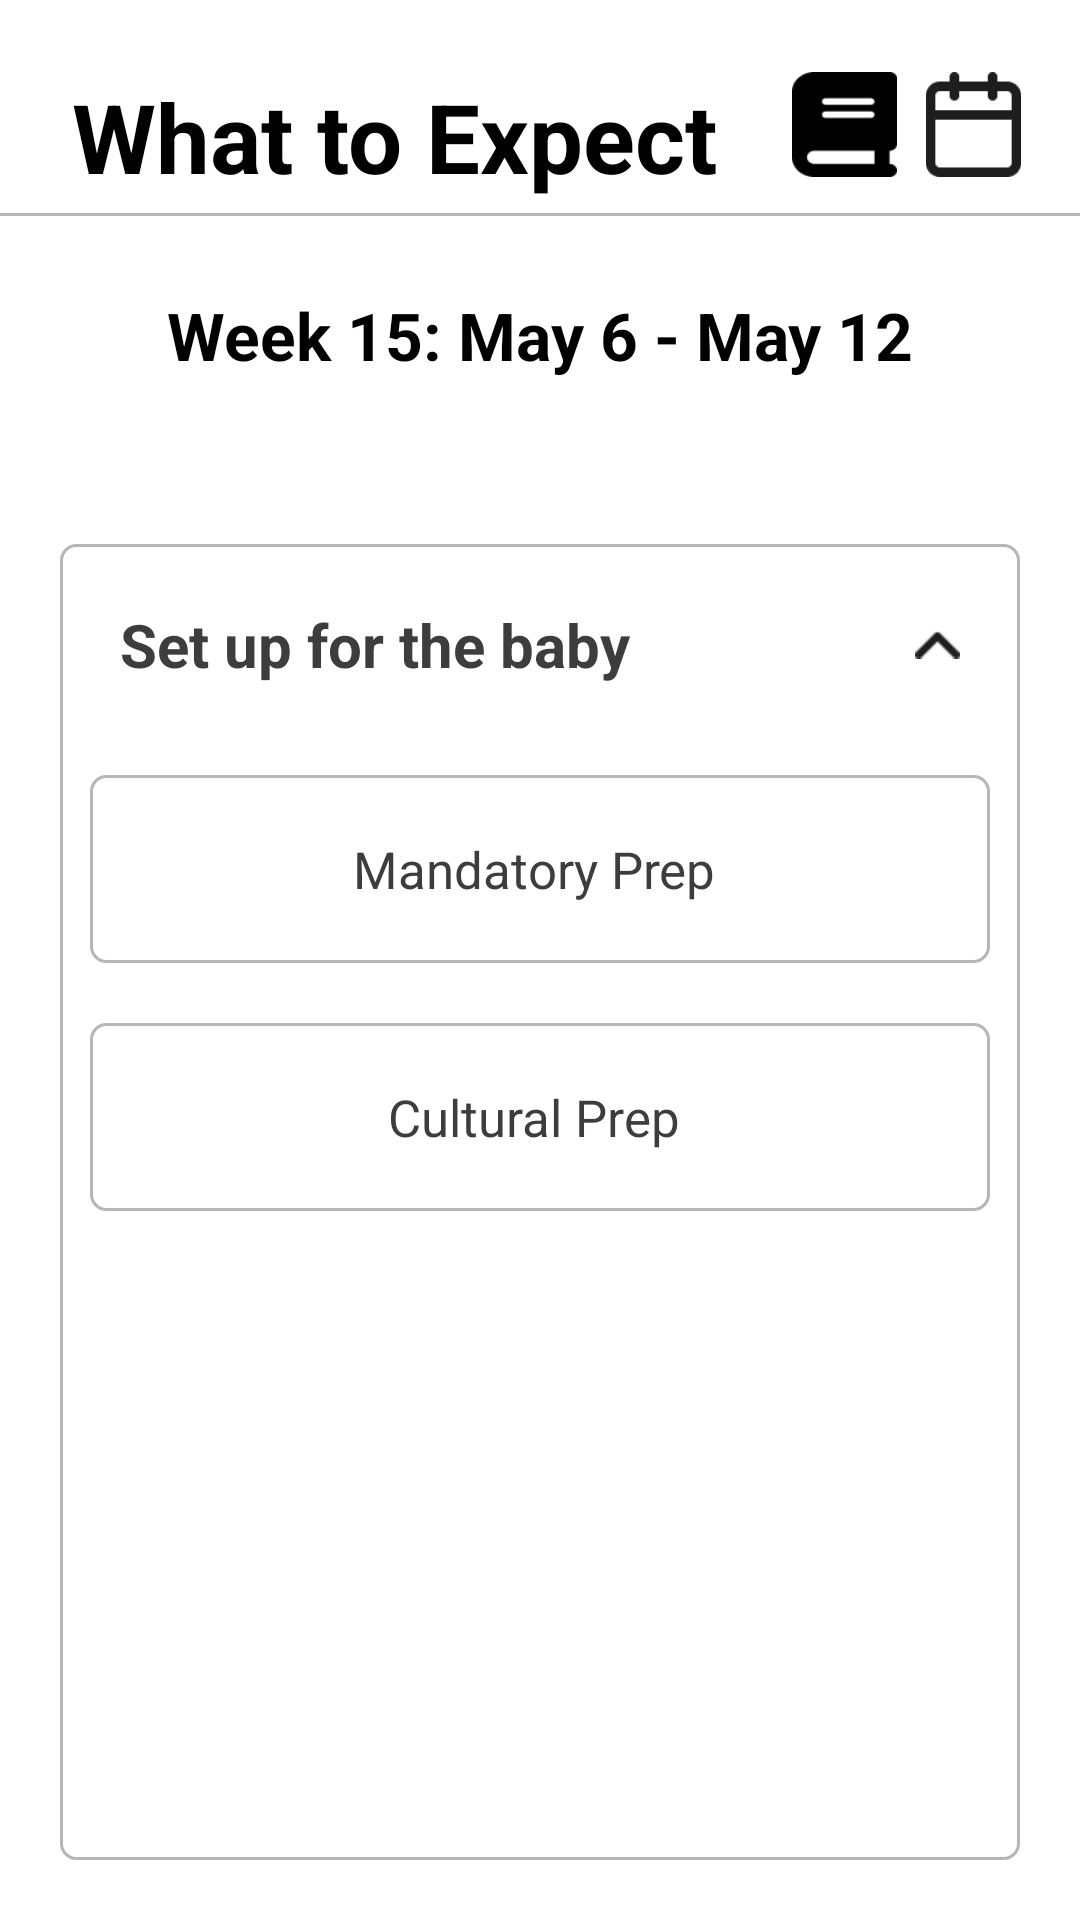

Locate icon controls on the screen. Image size 1080 x 1920, boxes as (left=x1, top=y1, right=x2, bottom=y2).
date: (left=926, top=72, right=1021, bottom=177)
notes: (left=792, top=72, right=897, bottom=177)
top arrow: (left=915, top=632, right=960, bottom=659)
